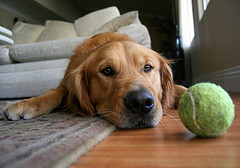tennis ball: (178, 80, 236, 139)
